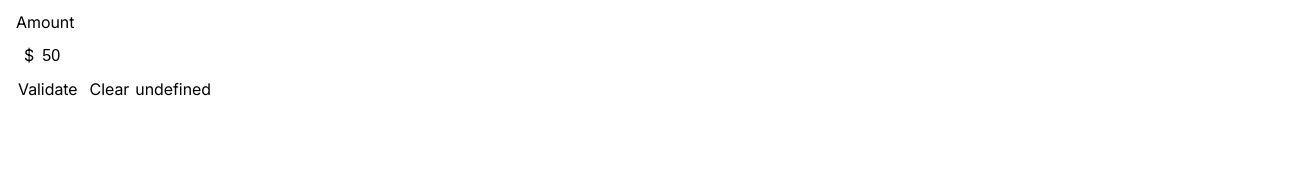
Test: PInputCurrency › Validation › clears validation with clear method
This screenshot has width=1292, height=172.
Click the button "Validate" at (48, 90), box [12, 78, 84, 101]
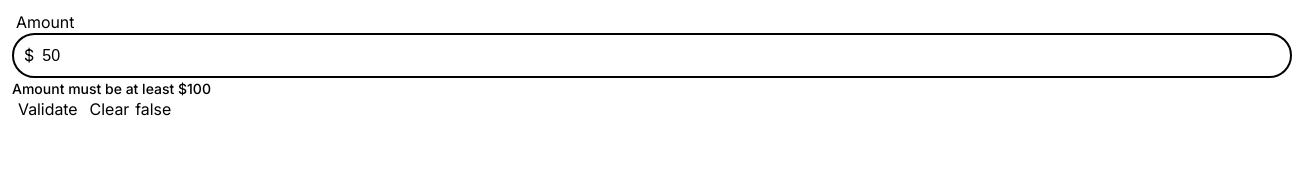
expect the text with class "is-valid" reads "false": met, box [135, 99, 171, 119]
Click the button with class "clear-btn" at (110, 110), box [84, 98, 136, 121]
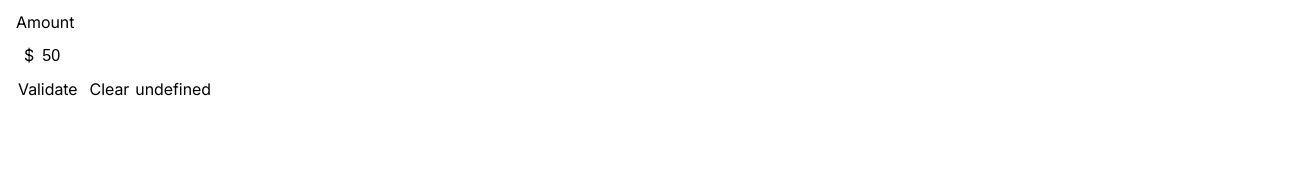
expect the text with class "is-valid" reads "undefined": met, box [135, 79, 211, 99]
